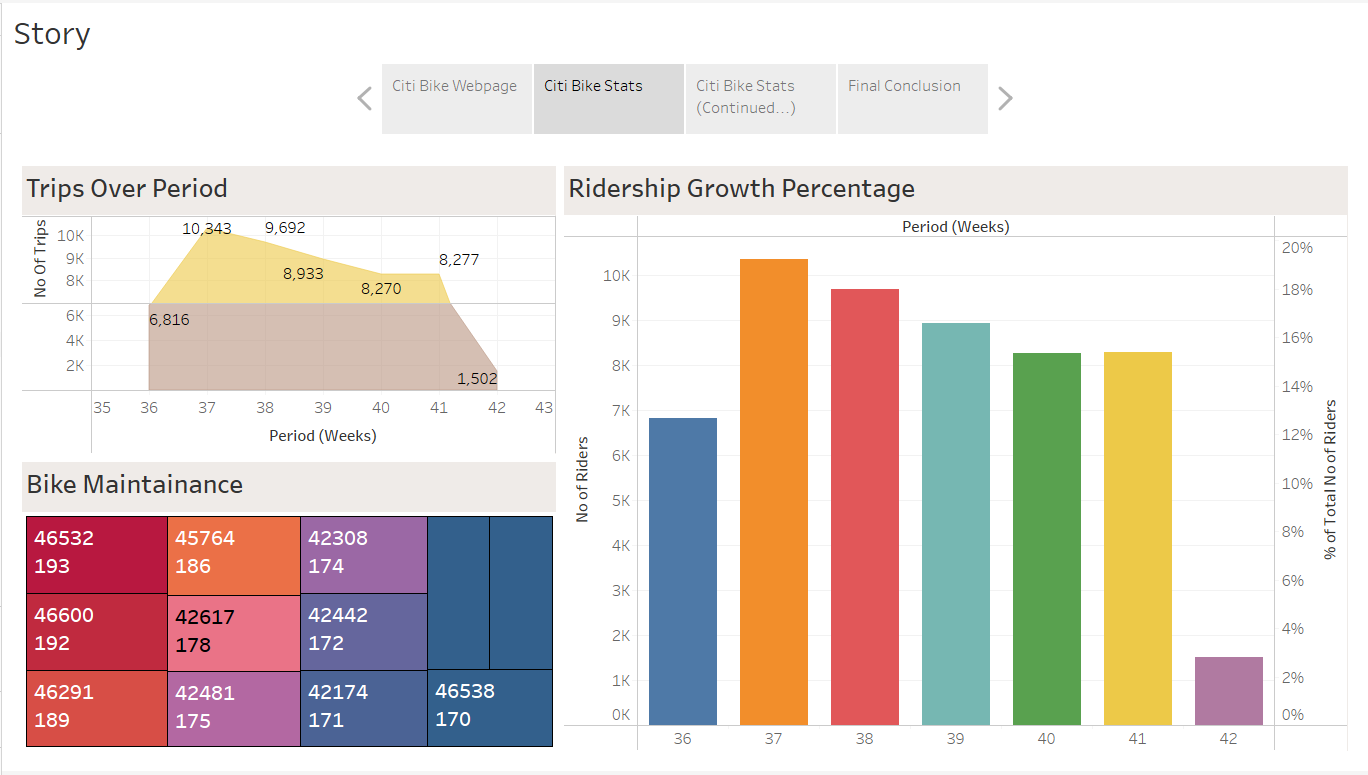

What the dashboard file says about the page in this screenshot:
{"tool":"tableau","page":{"name":"Citi Bike Dash 1","canvas":[1000,1000],"units":"permille","ordinal":1},"visuals":[{"type":"worksheet","box":[0,0,1000,1000]},{"type":"worksheet","param":"horz","box":[5.1,9.9,989.8,980.2]},{"type":"worksheet","box":[5.1,9.9,485.3,980.2]},{"type":"worksheet","title":"Trips Over Period","mark":"Area","rows":["Calculation_760826904366026758","Calculation_760826904366026758"],"cols":["Calculation_760826904301064194"],"box":[5.1,9.9,485.3,490]},{"type":"worksheet","param":"vert","box":[490.4,9.9,504.5,980.2]},{"type":"worksheet","title":"Ridership Growth Percentage","mark":"Bar","rows":["Calculation_760826904304263172","Calculation_760826904304263172"],"cols":["Calculation_760826904301064194"],"box":[490.4,9.9,504.5,980.2]},{"type":"worksheet","title":"Bike Maintainance","mark":"Automatic","box":[5.1,499.9,485.3,490.1]}]}

Visuals, with their boxes on the dashboard's canvas, which has no fixed pixel size, in thousandths of its width and height (x1, y1, x2, y2). These are canvas units, not pixel positions in the 1368x775 screenshot, which may show the page scaled, cropped or inside an application window:
worksheet: [0, 0, 1000, 1000]
worksheet: [5, 10, 995, 990]
worksheet: [5, 10, 490, 990]
"Trips Over Period" worksheet (Area marks): [5, 10, 490, 500]
worksheet: [490, 10, 995, 990]
"Ridership Growth Percentage" worksheet (Bar marks): [490, 10, 995, 990]
"Bike Maintainance" worksheet: [5, 500, 490, 990]
